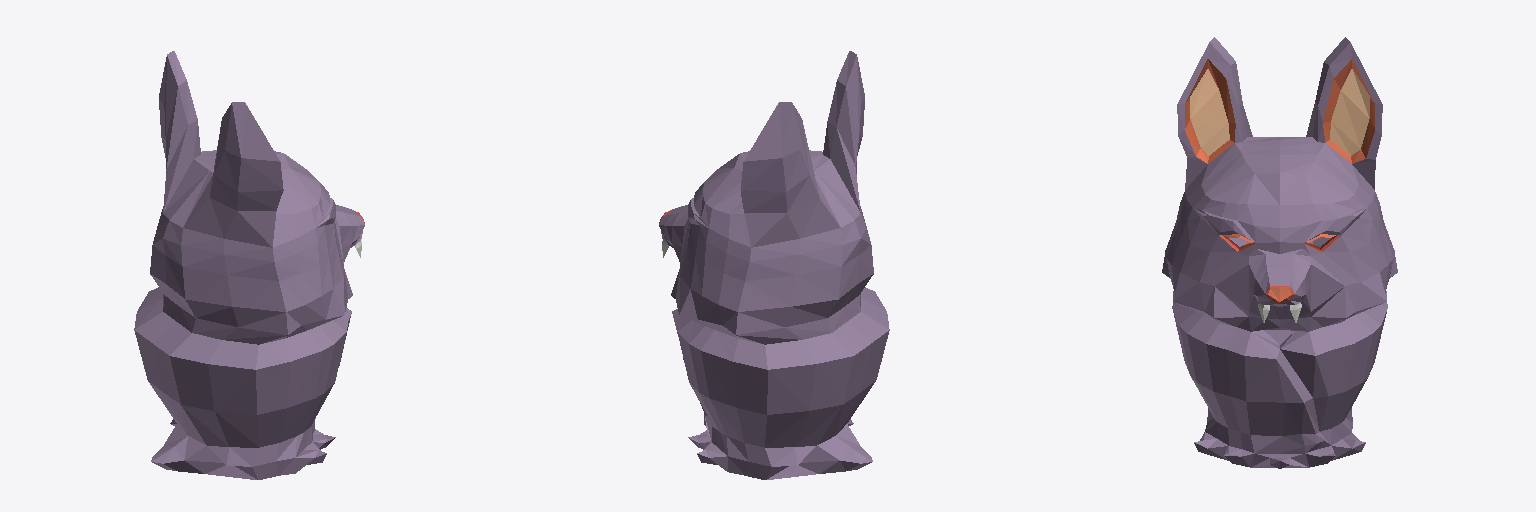
3 views of the same model, side by side, from view 1: azimuth 30°, elevation 25°; view 2: azimuth 150°, elevation 25°; view 3: azimuth 270°, elevation 25° (orthographic).
Visible parts, largest first — view 1: Cube; view 2: Cube; view 3: Cube.
Part boxes in pixels (x1,y1,x2,y2): Cube: (134,51,364,479); Cube: (659,51,889,479); Cube: (1162,37,1397,468).
Bounding box in the file's own units: 1.59 × 2.78 × 1.55.
Materials: 1 (1 with a texture image).